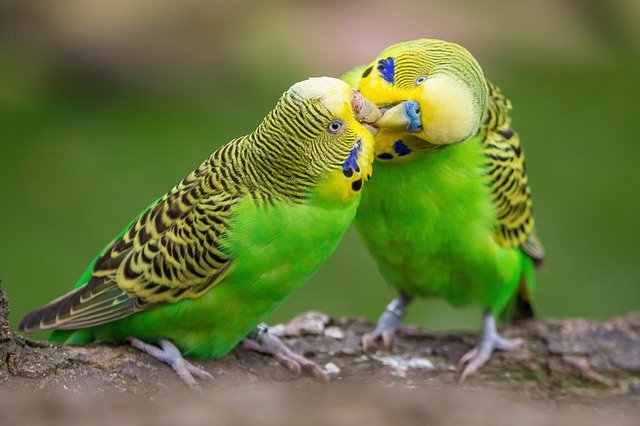budgie: (23, 76, 381, 387), (336, 34, 544, 359)
